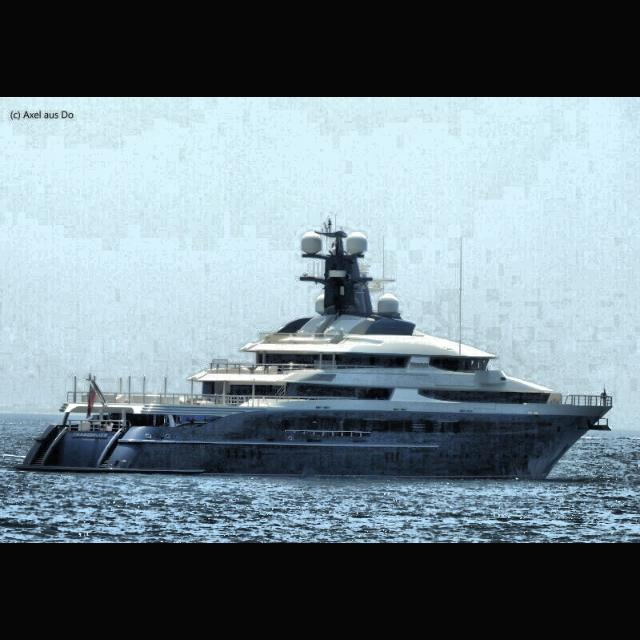yacht: (12, 213, 614, 482)
